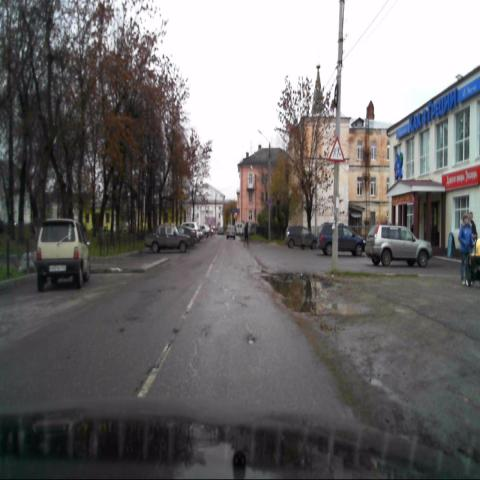1_23: (329, 135, 345, 162)
